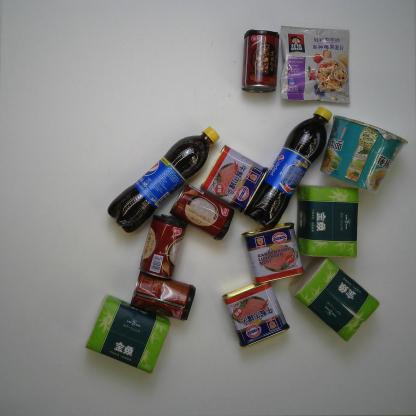Canned Food: (199, 142, 270, 214), (221, 280, 291, 349), (240, 221, 306, 286), (168, 182, 236, 242), (129, 270, 198, 323), (138, 211, 188, 281), (240, 28, 281, 95)
Drink: (105, 126, 220, 235), (243, 106, 333, 231)
Instant Drink: (277, 25, 353, 104)
Instant Noodles: (319, 114, 410, 195)
Tissue: (286, 254, 380, 343), (82, 292, 171, 374), (295, 182, 361, 259)
